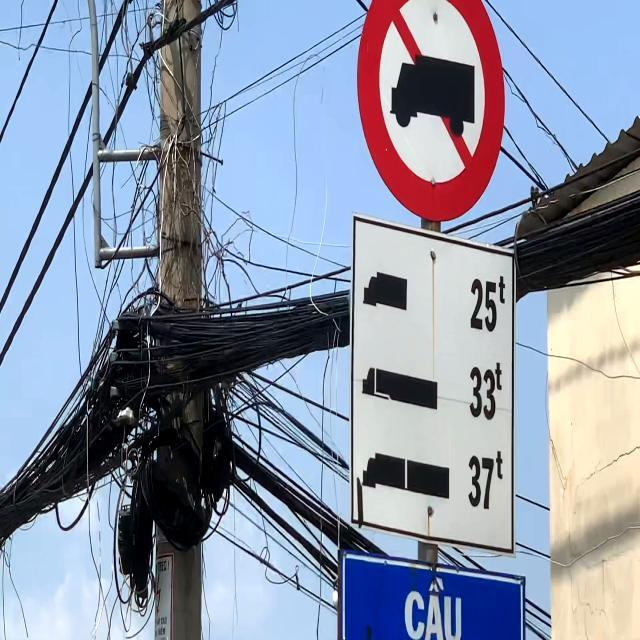Cam xe tai: (354, 0, 500, 220)
